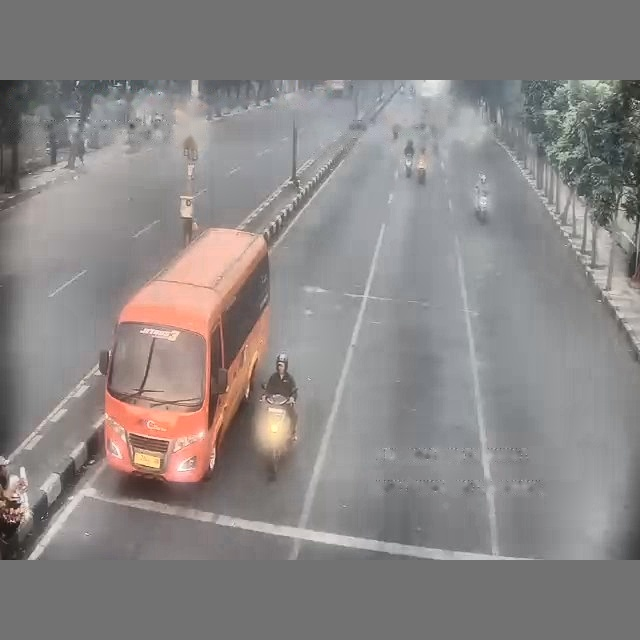Bis: (98, 228, 269, 482)
